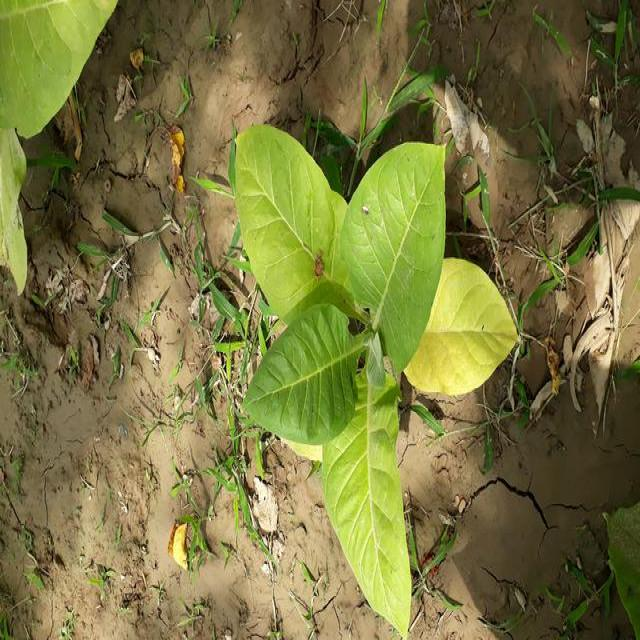crop: (227, 130, 506, 628), (2, 0, 104, 279)
